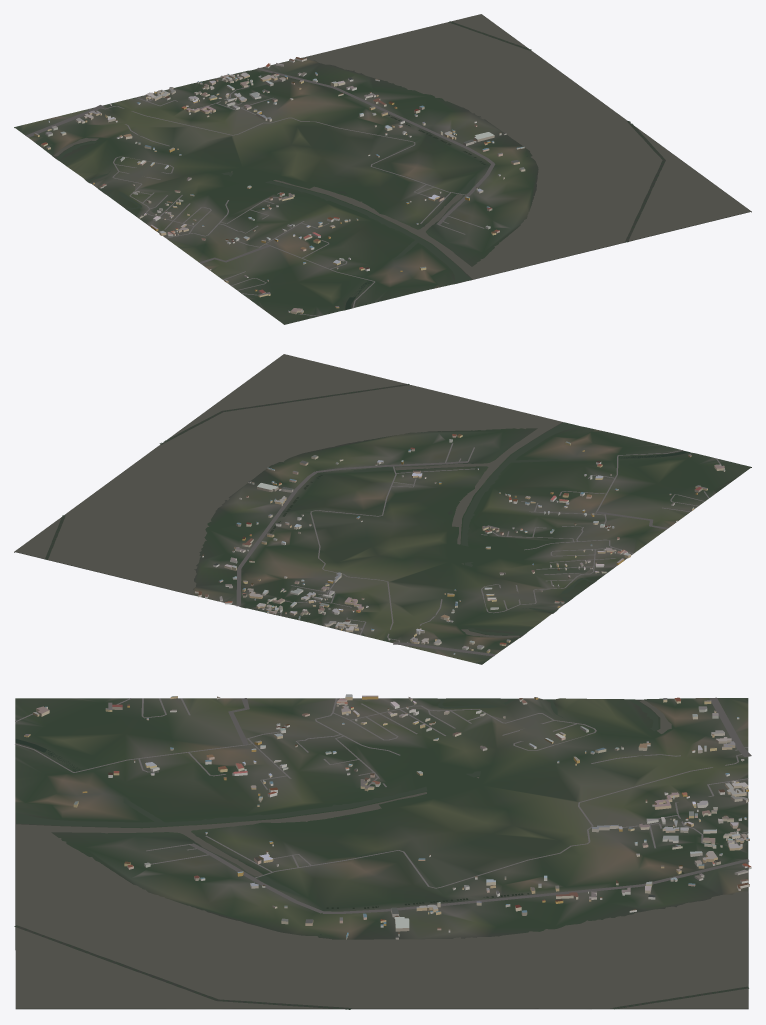
3 renders of one model, top to bottom at view 1: azimuth 30°, elevation 25°; view 2: azimuth 150°, elevation 25°; view 3: azimuth 270°, elevation 25°, orthographic. The views are drawn at different scales.
Visible parts, largest first — view 1: ground, water, buildings, roads; view 2: ground, water, buildings, roads; view 3: ground, water, buildings, roads.
Boxes of the visible parts, x1,y1,x2,y2 form: ground: (14,14,751,324); water: (53,14,750,309); buildings: (34,57,525,314); roads: (25,67,495,316); ground: (14,354,751,664); water: (15,354,689,637); buildings: (195,434,725,654); roads: (236,443,721,656); ground: (15,698,748,1009); water: (14,698,748,1009); buildings: (24,694,751,939); roads: (15,697,751,913).
Bounding box in the file's own units: 1407 × 14.63 × 1410.
